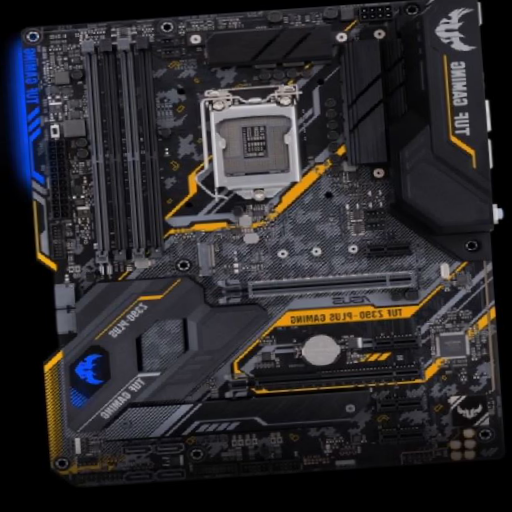CPU: (207, 85, 301, 202)
GPU: (217, 270, 417, 305), (225, 363, 422, 398)
MOTHERBOARD: (26, 1, 505, 478)
RAM: (80, 36, 166, 264)
SSD: (196, 240, 217, 278)
